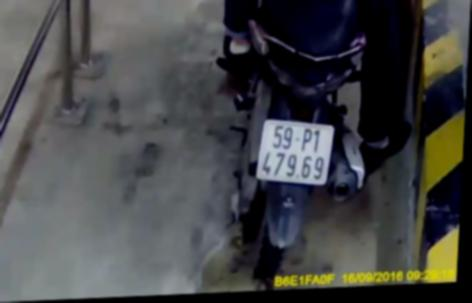License_Plate: (250, 114, 340, 194)
